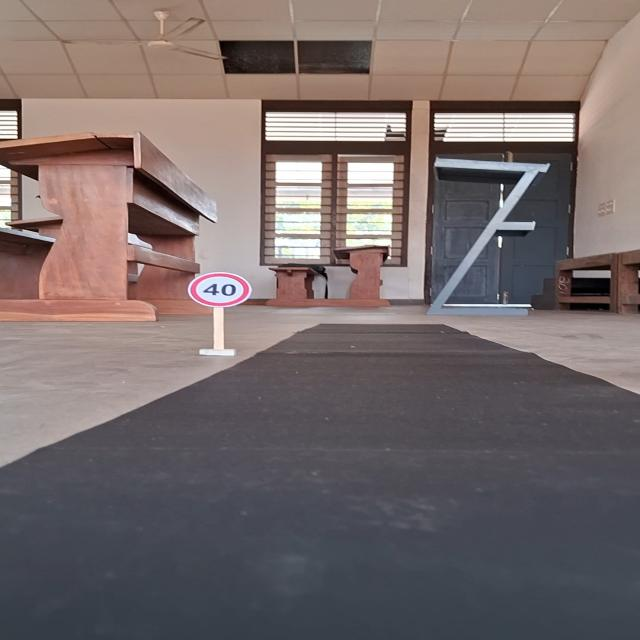Speed40: (185, 270, 253, 309)
